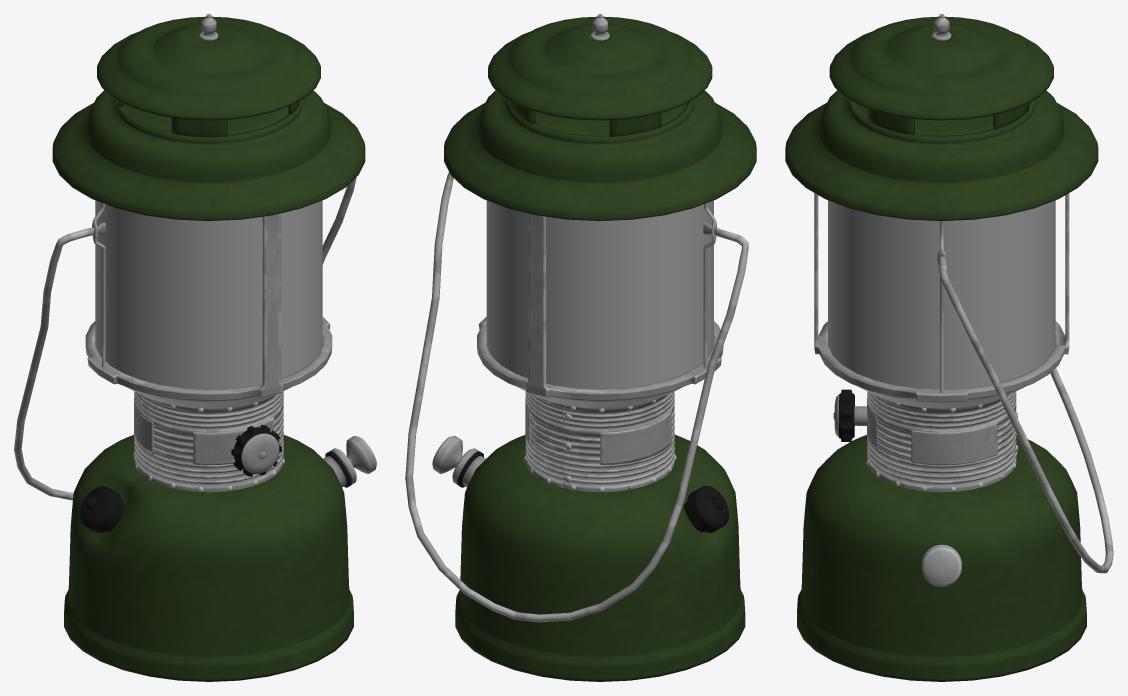
Rendered from camping_lantern.obj.
3 renders of one model, left to right at view 1: azimuth 30°, elevation 25°; view 2: azimuth 150°, elevation 25°; view 3: azimuth 270°, elevation 25°, orthographic.
Visible parts, largest first — view 1: lantern_bottom_Plane.010, lantern_top_Plane.013, lantern_glass_Plane.005, lantern_metal_base_bottom_Plane.006, lantern_metal_base_Plane.011, lantern_handle_Plane.004, lantern_metal_base_details_Plane.012, lantern_knob_middle_Plane.007, lantern_knob_left_Plane.008, lantern_knob_right_Plane.009; view 2: lantern_bottom_Plane.010, lantern_top_Plane.013, lantern_glass_Plane.005, lantern_metal_base_bottom_Plane.006, lantern_handle_Plane.004, lantern_metal_base_Plane.011, lantern_metal_base_details_Plane.012, lantern_knob_left_Plane.008, lantern_knob_right_Plane.009; view 3: lantern_bottom_Plane.010, lantern_top_Plane.013, lantern_glass_Plane.005, lantern_metal_base_bottom_Plane.006, lantern_metal_base_Plane.011, lantern_handle_Plane.004, lantern_metal_base_details_Plane.012, lantern_knob_right_Plane.009, lantern_knob_middle_Plane.007.
Boxes of the visible parts, x1,y1,x2,y2 form: lantern_bottom_Plane.010: [64, 435, 353, 681]; lantern_top_Plane.013: [52, 16, 365, 220]; lantern_glass_Plane.005: [95, 200, 322, 389]; lantern_metal_base_bottom_Plane.006: [134, 391, 283, 492]; lantern_metal_base_Plane.011: [85, 213, 332, 408]; lantern_handle_Plane.004: [14, 177, 356, 500]; lantern_metal_base_details_Plane.012: [133, 395, 284, 492]; lantern_knob_middle_Plane.007: [231, 424, 281, 476]; lantern_knob_left_Plane.008: [80, 486, 125, 532]; lantern_knob_right_Plane.009: [323, 435, 376, 487]; lantern_bottom_Plane.010: [455, 435, 745, 681]; lantern_top_Plane.013: [444, 16, 756, 220]; lantern_glass_Plane.005: [486, 200, 713, 389]; lantern_metal_base_bottom_Plane.006: [525, 391, 674, 492]; lantern_handle_Plane.004: [405, 172, 748, 622]; lantern_metal_base_Plane.011: [477, 213, 723, 408]; lantern_metal_base_details_Plane.012: [524, 398, 676, 492]; lantern_knob_left_Plane.008: [684, 486, 728, 532]; lantern_knob_right_Plane.009: [432, 435, 485, 487]; lantern_bottom_Plane.010: [797, 434, 1086, 681]; lantern_top_Plane.013: [785, 16, 1098, 220]; lantern_glass_Plane.005: [828, 200, 1055, 389]; lantern_metal_base_bottom_Plane.006: [867, 391, 1016, 492]; lantern_metal_base_Plane.011: [814, 193, 1069, 408]; lantern_handle_Plane.004: [937, 221, 1113, 573]; lantern_metal_base_details_Plane.012: [866, 395, 1017, 491]; lantern_knob_right_Plane.009: [921, 544, 961, 586]; lantern_knob_middle_Plane.007: [833, 389, 867, 441].
Bounding box in the file's own units: 0.2847 × 0.5235 × 0.2571.
1 material, 1 textured.
